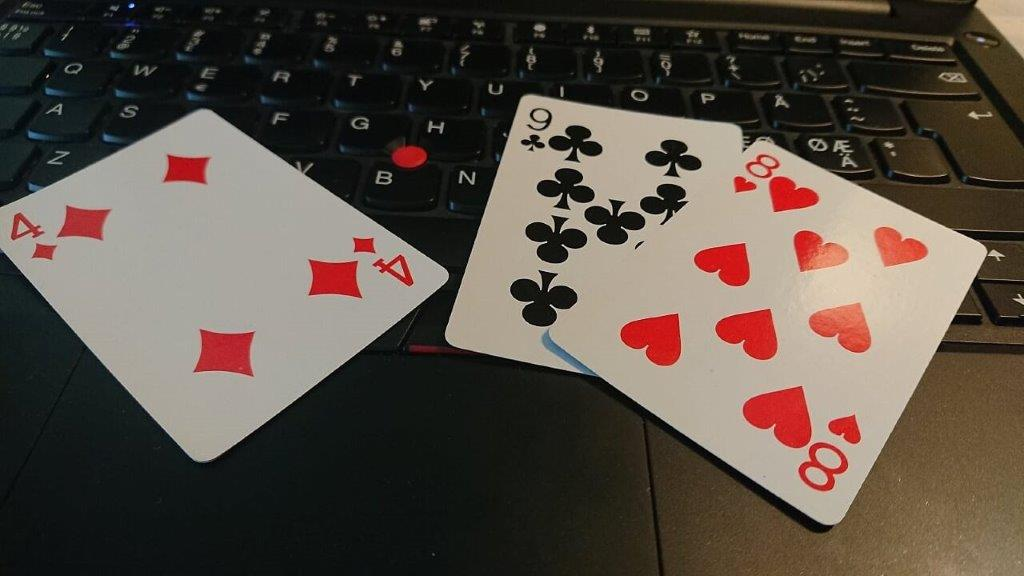4D: (6, 208, 61, 264)
8H: (729, 150, 782, 200)
9C: (517, 103, 555, 155)
